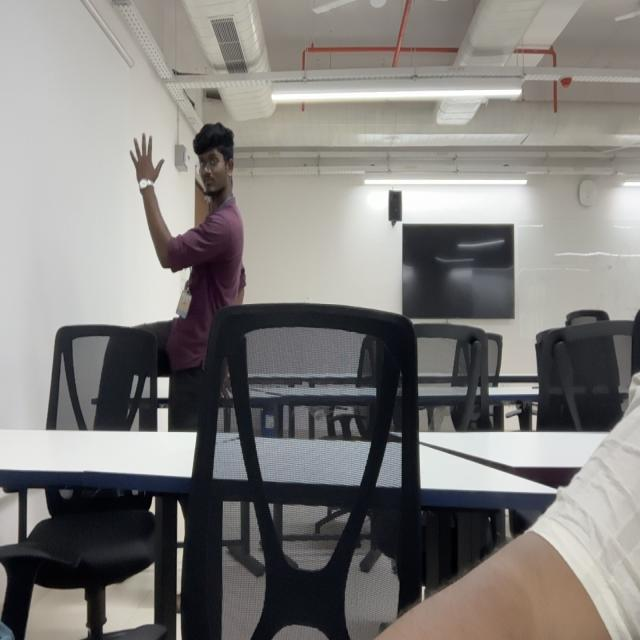ravindra: (192, 123, 235, 202)
